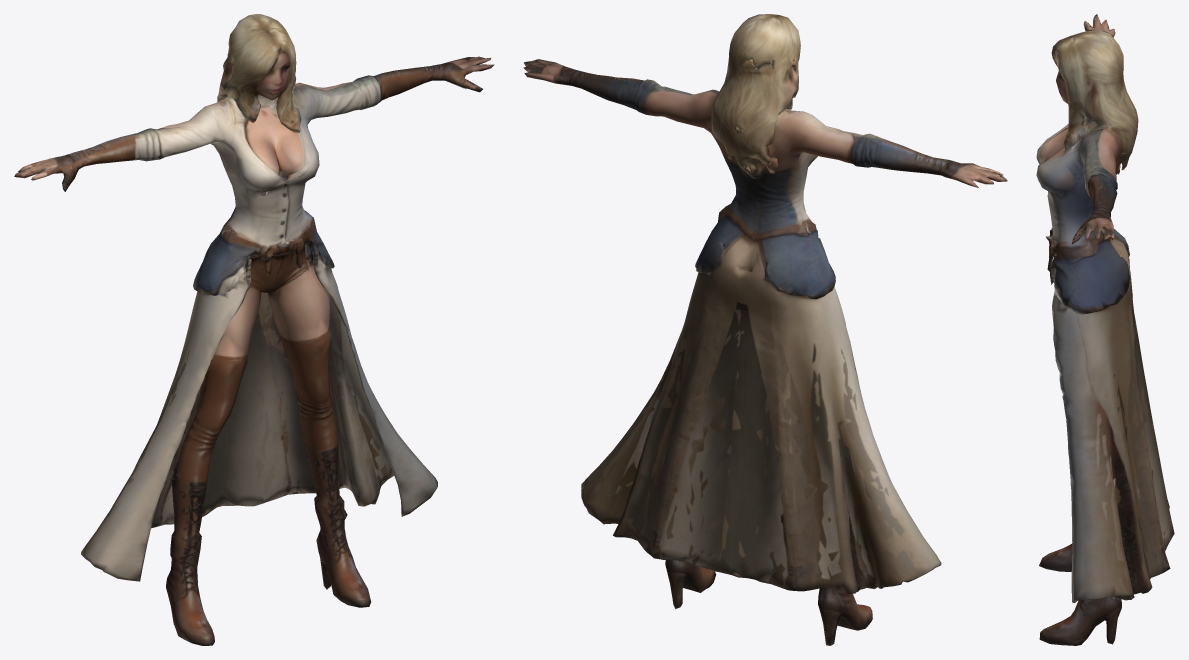
Rendered from MageBlonde.fbx.
The picture shows the model from 3 angles, left to right: view 1: azimuth 30°, elevation 25°; view 2: azimuth 150°, elevation 25°; view 3: azimuth 270°, elevation 25°; orthographic projection. The views are drawn at different scales.
Parts seen in each view (by area): view 1: Mesh1; view 2: Mesh1; view 3: Mesh1.
Boxes of the visible parts, <box> form: Mesh1: <box>14,14,494,645</box>; Mesh1: <box>523,14,1007,645</box>; Mesh1: <box>1036,14,1174,645</box>.
Bounding box in the file's own units: 170 × 202 × 44.01.
1 material, 1 textured.
